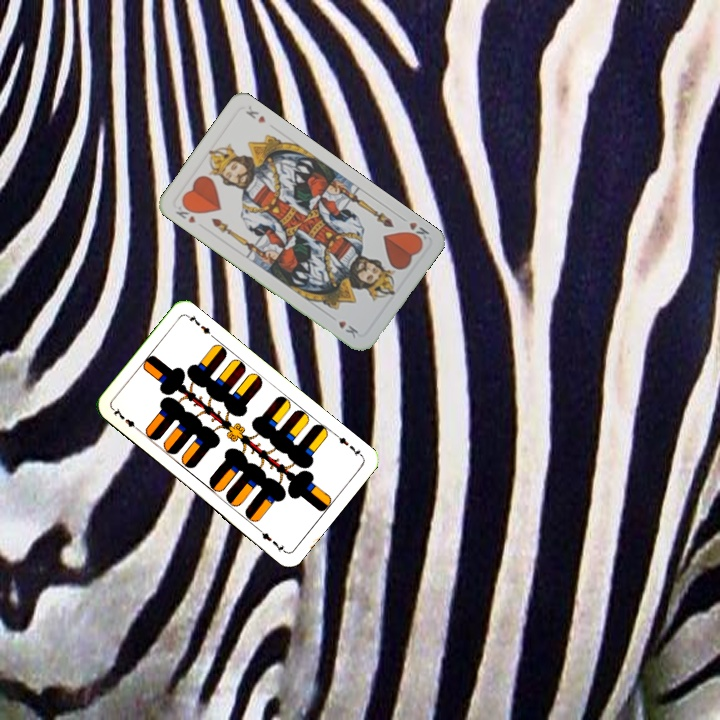E7: (108, 404, 143, 434), (331, 430, 365, 459)
HK: (396, 212, 432, 246), (171, 199, 200, 226)
